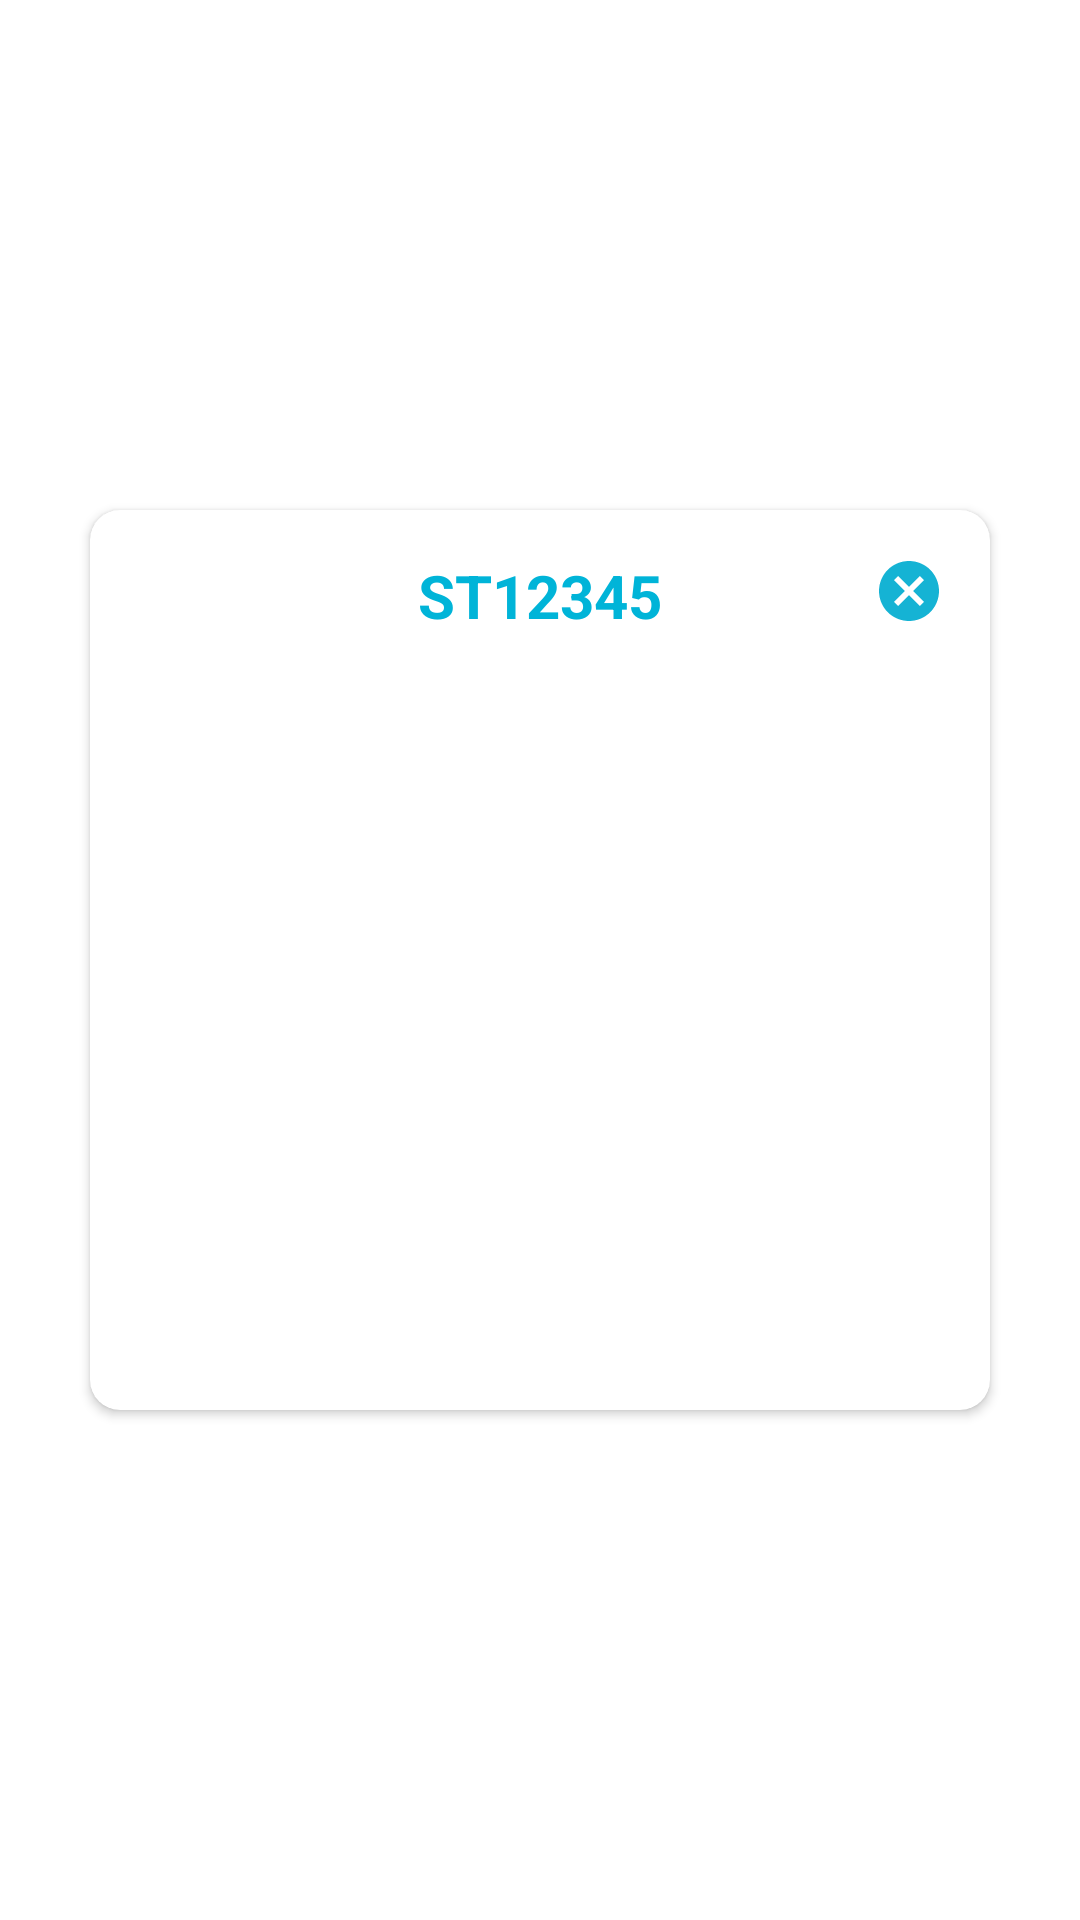

Icon click points for this 1080x1920 phone screenshot, format (x,y):
cancel: (909,591)
